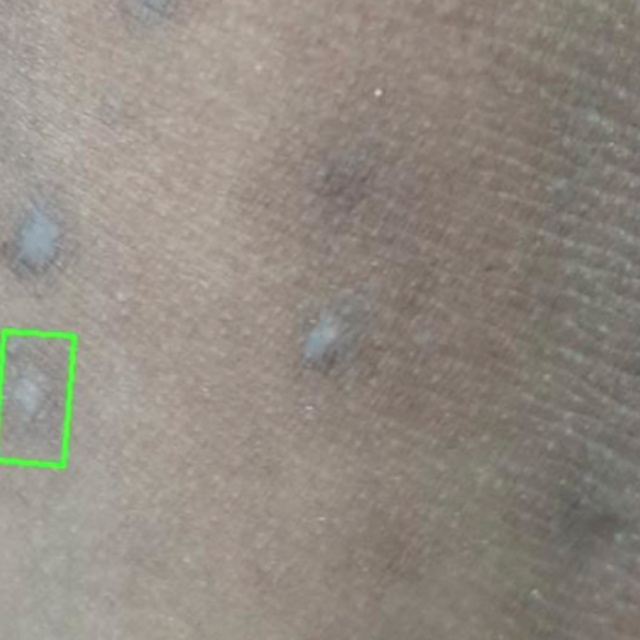Scabies: (0, 331, 73, 466)
